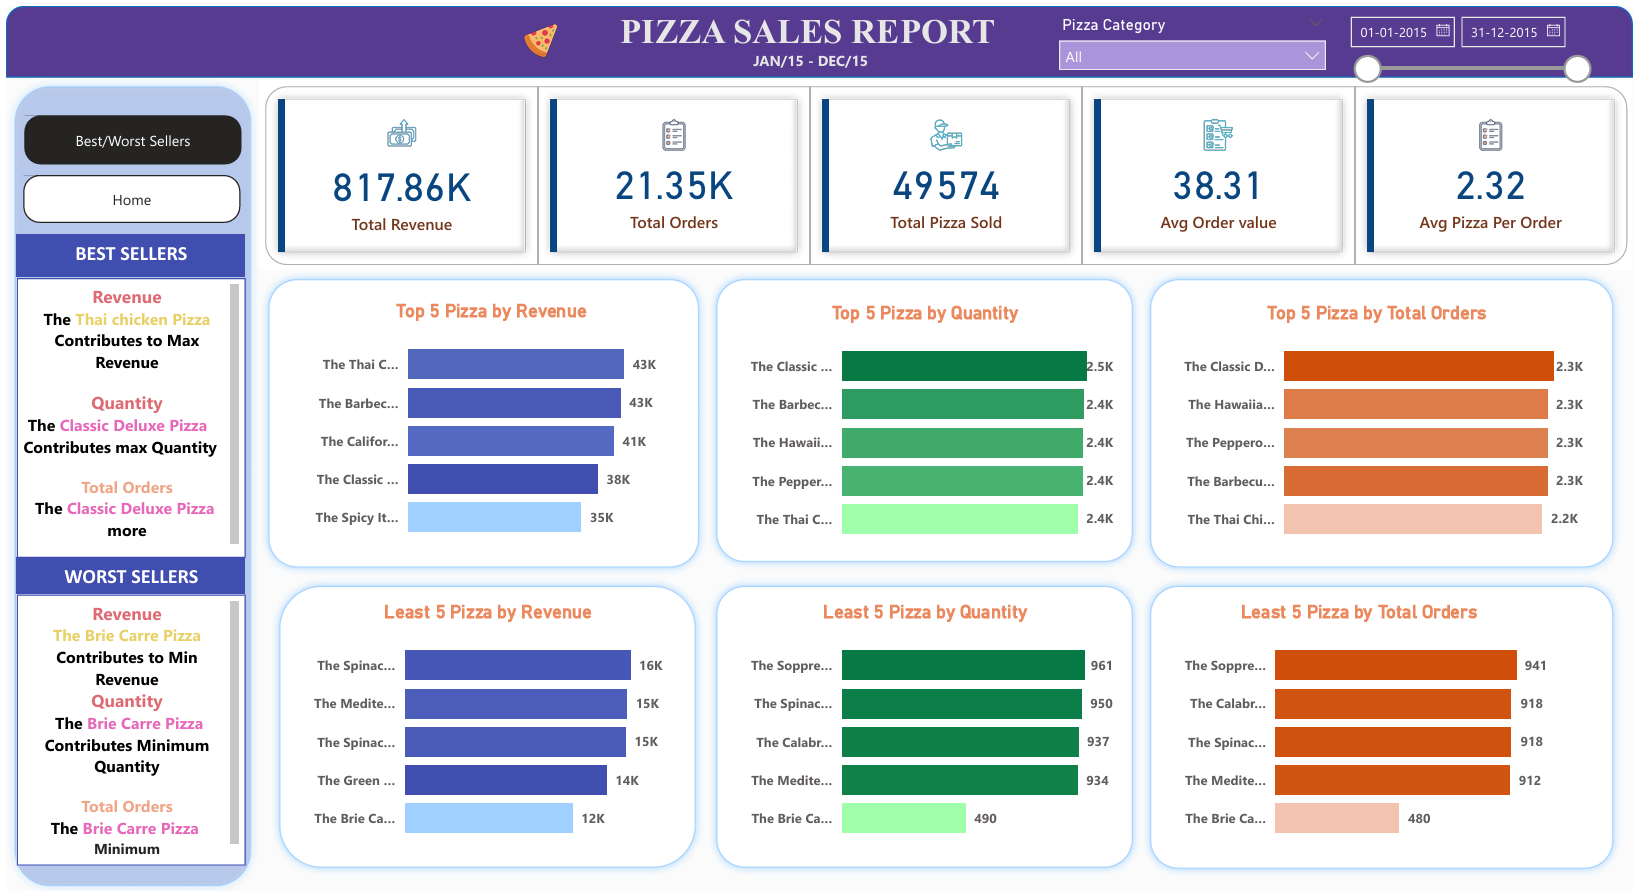

This screenshot's page, from the dashboard's own definition file:
{"tool":"powerbi","page":{"name":"Best/Worst Sellers","canvas":[1500,820],"ordinal":1},"visuals":[{"type":"shape","box":[0,65.7,234.3,754.3],"z":0},{"type":"cardVisual","fields":{"Data":["pizza_sales.Total Revenue","pizza_sales.Total Orders","pizza_sales.Total Pizza Sold","pizza_sales.Avg Order value","pizza_sales.Avg Pizza Per Order"]},"box":[234.3,68.6,1265.7,175.7],"z":1000},{"type":"shape","box":[0,0,1500,65.7],"z":2000},{"type":"textbox","box":[517.1,0,444.3,51.4],"z":3000},{"type":"textbox","box":[684.3,35.7,131.4,32.9],"z":4000},{"type":"image","box":[468.6,11.4,48.6,41.4],"z":5000},{"type":"shape","box":[234.3,244.3,412.9,281.4],"z":6000},{"type":"textbox","box":[10,211.4,211.4,38.6],"z":7000},{"type":"textbox","box":[10,251.4,211.4,257.1],"z":8000},{"type":"textbox","box":[10,542.9,211.4,250],"z":9000},{"type":"textbox","box":[10,508.6,211.4,34.3],"z":10000},{"type":"slicer","fields":{"Values":["pizza_sales.pizza_category"]},"box":[961.4,4.3,265.7,62.9],"z":11000},{"type":"slicer","fields":{"Values":["pizza_sales.order_date"]},"box":[1227.1,0,242.9,80],"z":12000},{"type":"shape","box":[647.1,244.3,400,277.1],"z":13000},{"type":"shape","box":[1047.1,244.3,442.9,281.4],"z":14000},{"type":"shape","box":[244.3,527.1,400,275.7],"z":15000},{"type":"shape","box":[647.1,527.1,400,275.7],"z":16000},{"type":"shape","box":[1047.1,527.1,442.9,277.1],"z":17000},{"type":"barChart","title":"Top 5 Pizza by Revenue","fields":{"Category":["pizza_sales.pizza_name"],"Y":["pizza_sales.Total Revenue"]},"box":[268.6,271.4,357.1,234.3],"z":18000},{"type":"barChart","title":"Least 5 Pizza by Revenue","fields":{"Category":["pizza_sales.pizza_name"],"Y":["pizza_sales.Total Revenue"]},"box":[265.7,548.6,357.1,234.3],"z":19000},{"type":"barChart","title":"Top 5 Pizza by Quantity","fields":{"Category":["pizza_sales.pizza_name"],"Y":["pizza_sales.Total Pizza Sold"]},"box":[668.6,272.9,357.1,234.3],"z":20000},{"type":"barChart","title":"Least 5 Pizza by Quantity","fields":{"Category":["pizza_sales.pizza_name"],"Y":["pizza_sales.Total Pizza Sold"]},"box":[668.6,548.6,357.1,234.3],"z":21000},{"type":"barChart","title":"Top 5 Pizza by Total Orders","fields":{"Category":["pizza_sales.pizza_name"],"Y":["pizza_sales.Total Orders"]},"box":[1068.6,272.9,390,234.3],"z":22000},{"type":"barChart","title":"Least 5 Pizza by Total Orders","fields":{"Category":["pizza_sales.pizza_name"],"Y":["pizza_sales.Total Orders"]},"box":[1068.6,548.6,357.1,234.3],"z":23000},{"type":"pageNavigator","box":[17.1,101.4,200,44.3],"z":24000},{"type":"pageNavigator","box":[15.7,155.7,200,44.3],"z":25000}]}

Visuals, with their boxes in screenshot pixels (x1, y1, x2, y2), scaled from the page's 1500x820 canvas onto the 1633x891 screenshot:
shape: x1=0, y1=71, x2=255, y2=890
cardVisual - pizza_sales.Total Revenue x pizza_sales.Total Orders: x1=255, y1=75, x2=1632, y2=265
shape: x1=0, y1=0, x2=1632, y2=71
textbox: x1=563, y1=0, x2=1047, y2=56
textbox: x1=745, y1=39, x2=888, y2=75
image: x1=510, y1=12, x2=563, y2=57
shape: x1=255, y1=265, x2=705, y2=571
textbox: x1=11, y1=230, x2=241, y2=272
textbox: x1=11, y1=273, x2=241, y2=553
textbox: x1=11, y1=590, x2=241, y2=862
textbox: x1=11, y1=553, x2=241, y2=590
slicer - pizza_sales.pizza_category: x1=1047, y1=5, x2=1336, y2=73
slicer - pizza_sales.order_date: x1=1336, y1=0, x2=1600, y2=87
shape: x1=704, y1=265, x2=1140, y2=567
shape: x1=1140, y1=265, x2=1622, y2=571
shape: x1=266, y1=573, x2=701, y2=872
shape: x1=704, y1=573, x2=1140, y2=872
shape: x1=1140, y1=573, x2=1622, y2=874
"Top 5 Pizza by Revenue" barChart: x1=292, y1=295, x2=681, y2=549
"Least 5 Pizza by Revenue" barChart: x1=289, y1=596, x2=678, y2=851
"Top 5 Pizza by Quantity" barChart: x1=728, y1=297, x2=1117, y2=551
"Least 5 Pizza by Quantity" barChart: x1=728, y1=596, x2=1117, y2=851
"Top 5 Pizza by Total Orders" barChart: x1=1163, y1=297, x2=1588, y2=551
"Least 5 Pizza by Total Orders" barChart: x1=1163, y1=596, x2=1552, y2=851
pageNavigator: x1=19, y1=110, x2=236, y2=158
pageNavigator: x1=17, y1=169, x2=235, y2=217
